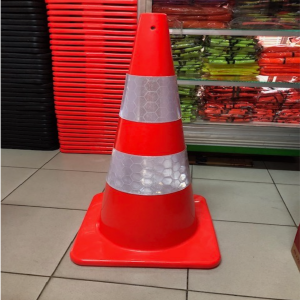traffic cone: (69, 13, 222, 269)
